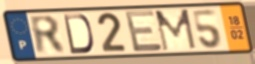2: (98, 11, 130, 55)
5: (190, 7, 223, 50)
D: (61, 13, 95, 56)
E: (123, 9, 165, 55)
M: (152, 7, 198, 53)
R: (27, 14, 69, 57)
